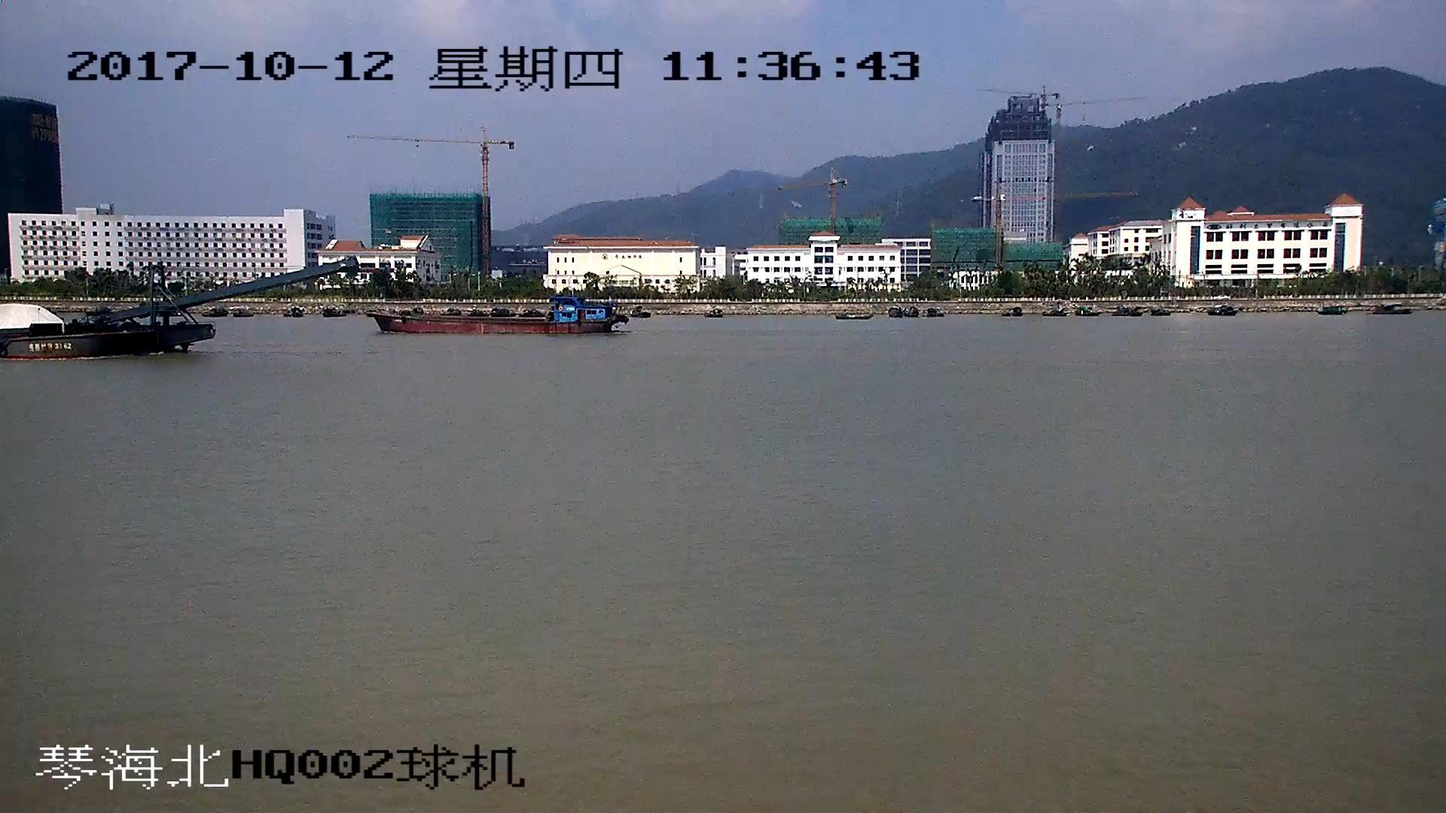bulk cargo carrier: (370, 298, 629, 336)
ore carrier: (0, 256, 351, 361)
